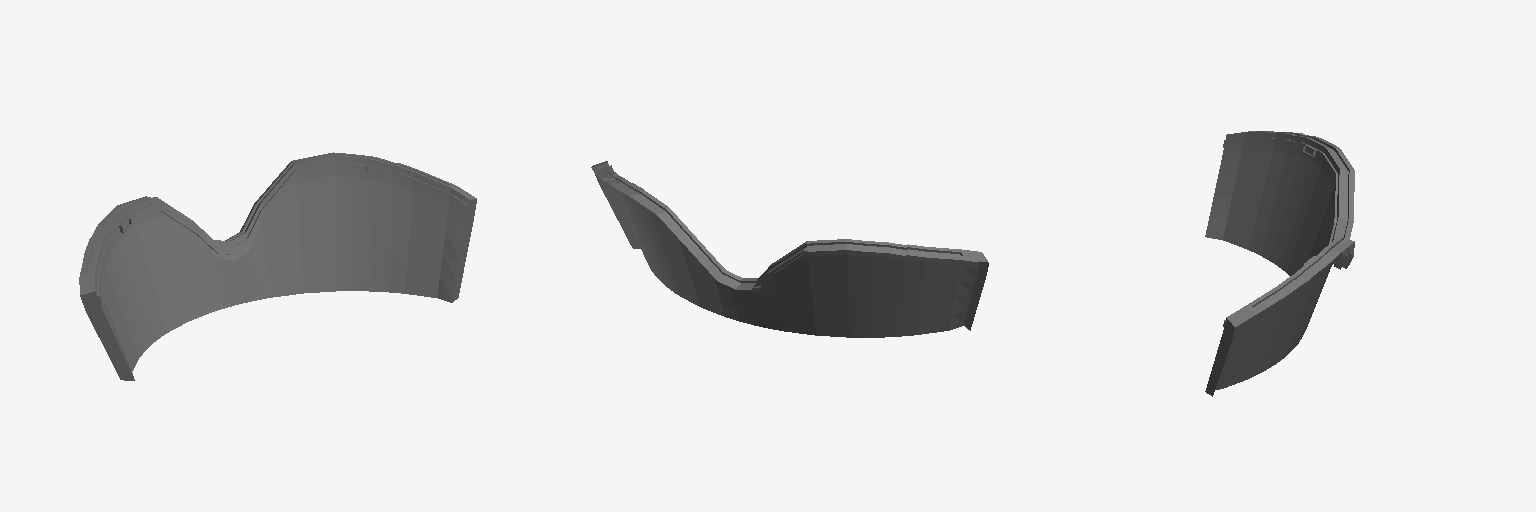
The model's file is visor_inferior.obj.
The picture shows the model from 3 angles: view 1: azimuth 30°, elevation 25°; view 2: azimuth 150°, elevation 25°; view 3: azimuth 270°, elevation 25°; orthographic projection.
Visible parts, largest first — view 1: g polySurface1 visor_low:visor_low_polySurface1 visor_low:visor_; view 2: g polySurface1 visor_low:visor_low_polySurface1 visor_low:visor_; view 3: g polySurface1 visor_low:visor_low_polySurface1 visor_low:visor_.
Part boxes in pixels (x1,y1,x2,y2): g polySurface1 visor_low:visor_low_polySurface1 visor_low:visor_: (79,152,476,380); g polySurface1 visor_low:visor_low_polySurface1 visor_low:visor_: (591,161,988,337); g polySurface1 visor_low:visor_low_polySurface1 visor_low:visor_: (1205,131,1354,396).
Size of the model in its own units: 63.77 by 17.97 by 20.84.